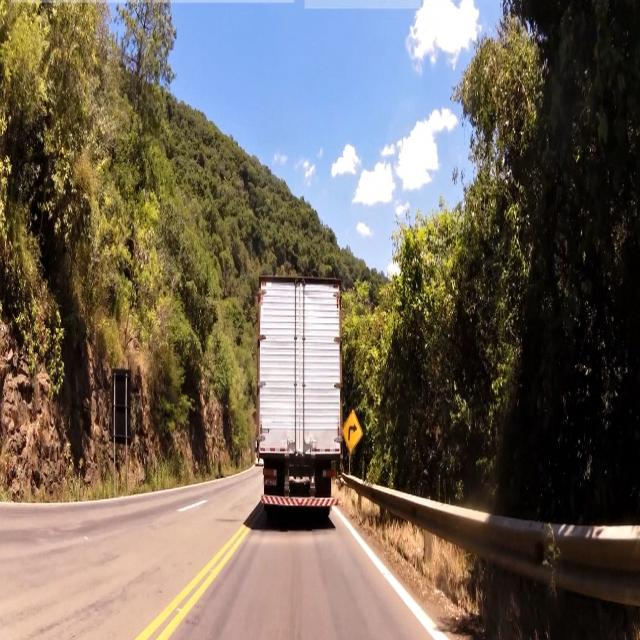A-1b: (344, 406, 363, 451)
